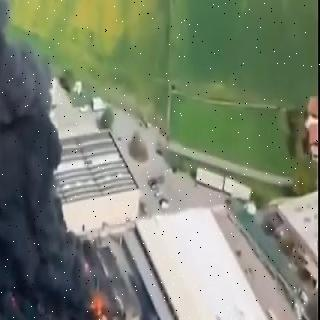smoke: (0, 9, 65, 229)
